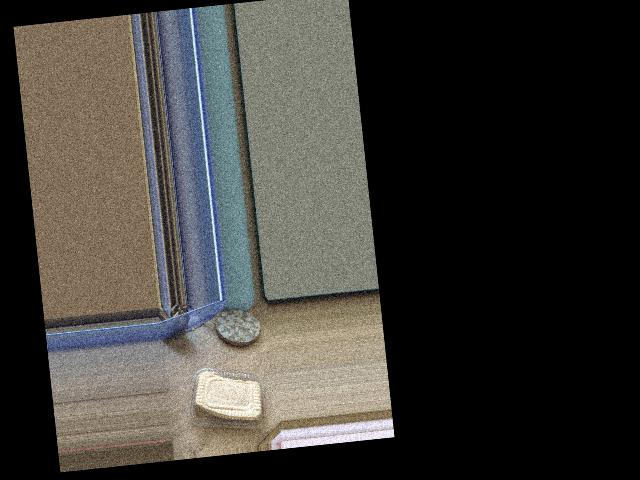cheese: (191, 356, 279, 451)
